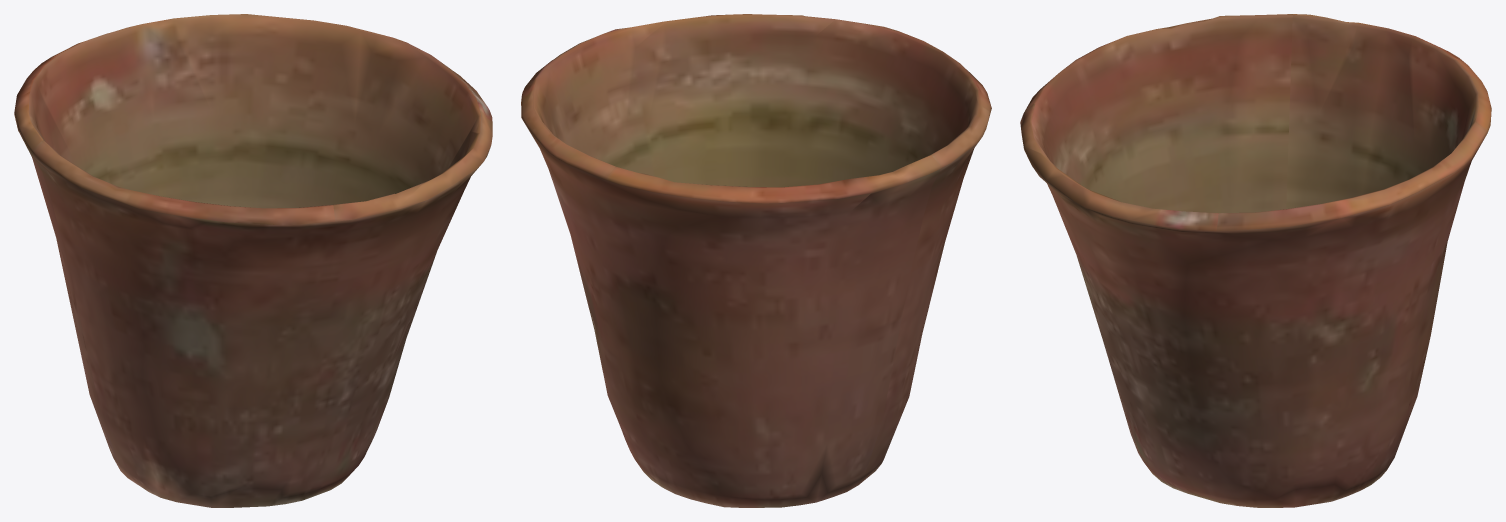
File: palayok.glb
3 renders of one model, left to right at view 1: azimuth 30°, elevation 25°; view 2: azimuth 150°, elevation 25°; view 3: azimuth 270°, elevation 25°, orthographic.
Visible parts, largest first — view 1: planter_pot_clay; view 2: planter_pot_clay; view 3: planter_pot_clay.
Boxes of the visible parts, x1=… form: planter_pot_clay: x1=14, y1=14, x2=492, y2=507; planter_pot_clay: x1=521, y1=14, x2=991, y2=507; planter_pot_clay: x1=1020, y1=14, x2=1491, y2=507.
Size of the model in its own units: 0.2656 by 0.2218 by 0.2635.
1 material, 1 textured.
